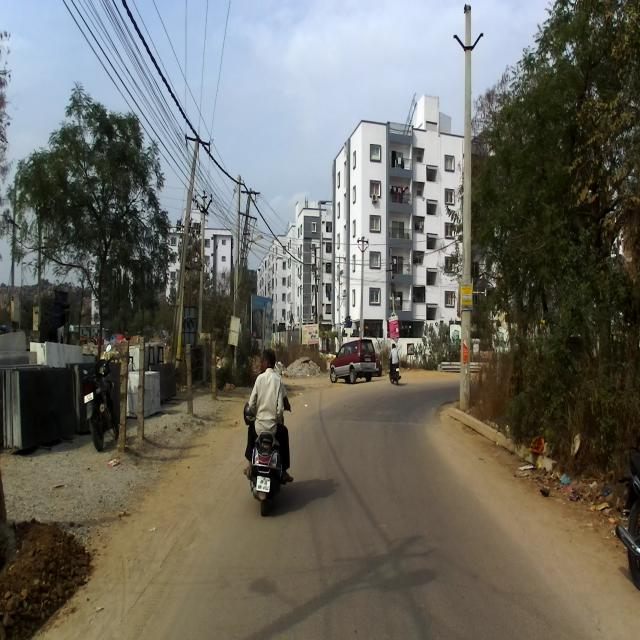barrier ahead at: (134, 332, 150, 452), (118, 333, 132, 461)
electric pole ahead at: (447, 0, 481, 415), (167, 113, 206, 382)
motorcycle ahead at: (245, 428, 295, 514), (78, 352, 119, 452)
